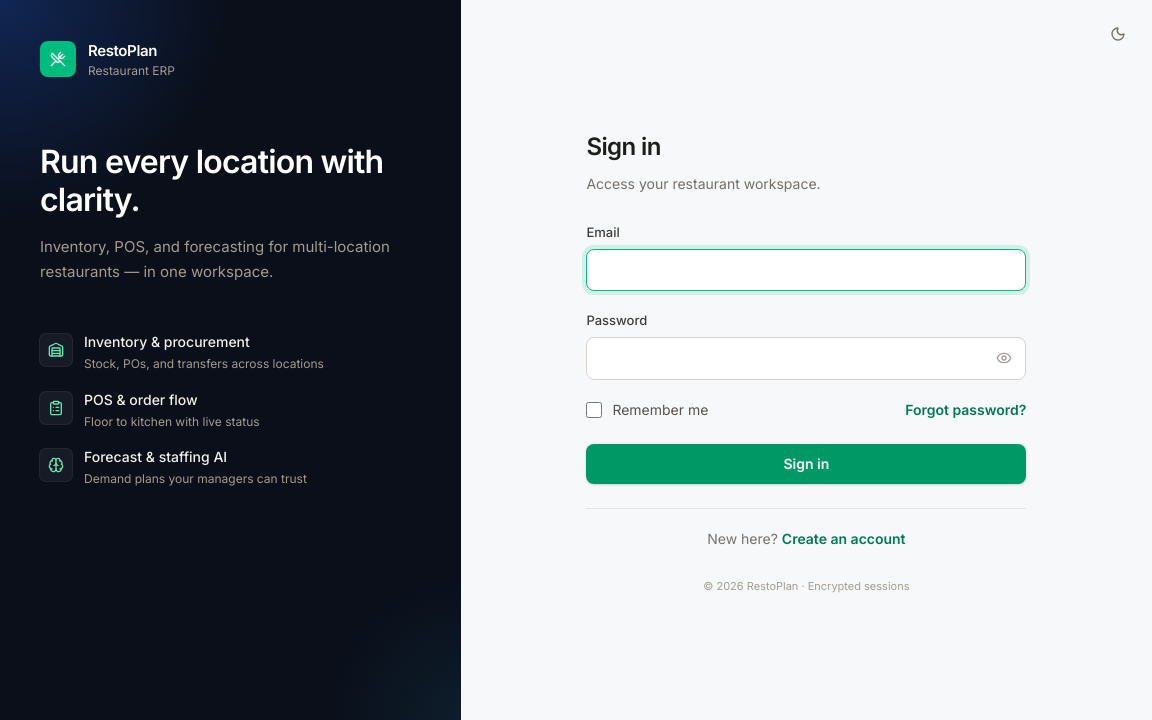
Test: login validation › shows required-field messages without sending a login request
The width and height of the screenshot is (1152, 720).
What coordinates should you click on to do the following:
click the button "Sign in"
I would click on:
 (806, 464)
Its box is top-left (586, 444), bottom-right (1026, 484).
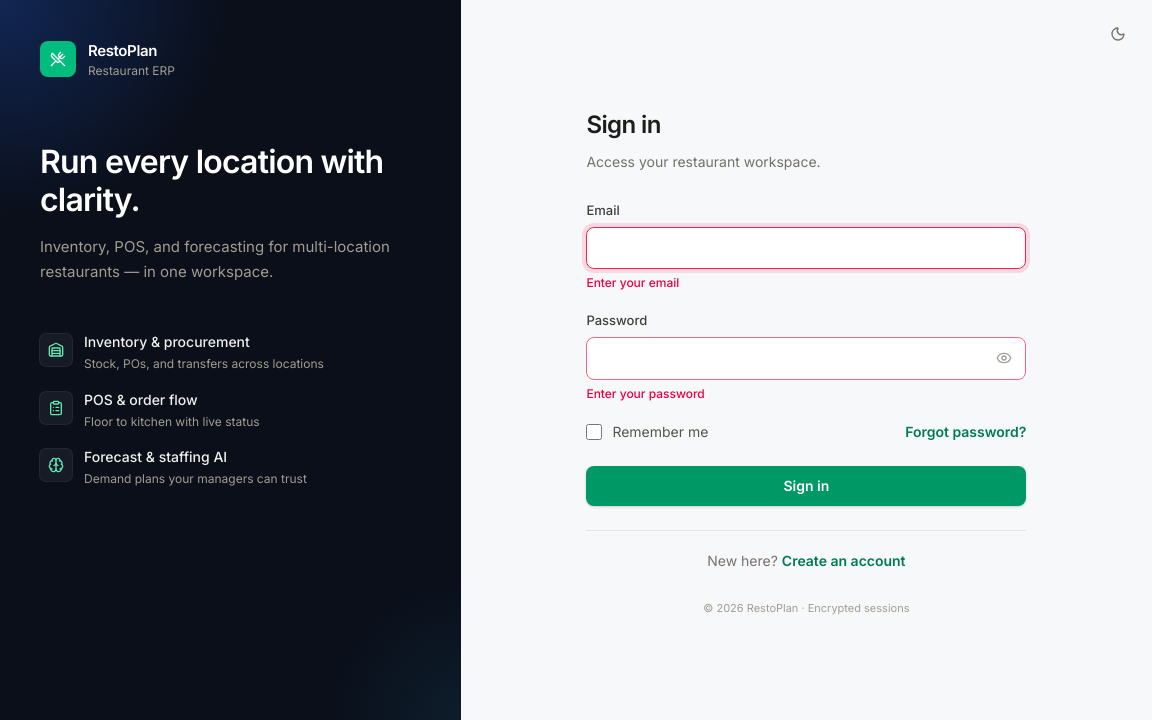
Now the text "Enter your email" is shown, box top-left (586, 275), bottom-right (679, 290)
Now the text "Enter your password" is shown, box top-left (586, 386), bottom-right (705, 400)
